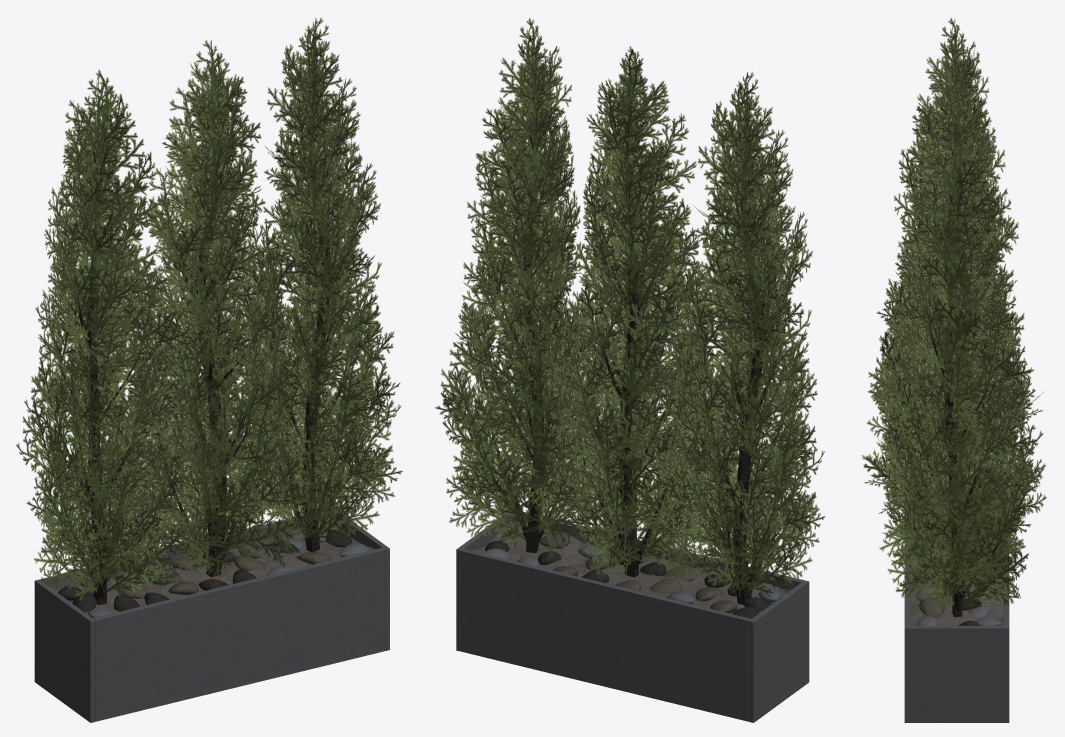
Rendered from drzewka_poprawka.glb.
The picture shows the model from 3 angles, left to right: view 1: azimuth 30°, elevation 25°; view 2: azimuth 150°, elevation 25°; view 3: azimuth 270°, elevation 25°; orthographic projection. The views are drawn at different scales.
Parts seen in each view (by area): view 1: 2_media\gen\BZO\q\r\c\wda4ahsok1wt0lj-vba__r2__.bzo_3, 1_media\gen\BZO\q\r\c\wda4ahsok1wt0lj-vba__r2__.bzo_2, 0_media\gen\BZO\q\r\c\wda4ahsok1wt0lj-vba__r2__.bzo_1, 4_media\gen\BZO\q\r\c\wda4ahsok1wt0lj-vba__r2__.bzo_5, 3_media\gen\BZO\q\r\c\wda4ahsok1wt0lj-vba__r2__.bzo_4; view 2: 2_media\gen\BZO\q\r\c\wda4ahsok1wt0lj-vba__r2__.bzo_3, 1_media\gen\BZO\q\r\c\wda4ahsok1wt0lj-vba__r2__.bzo_2, 0_media\gen\BZO\q\r\c\wda4ahsok1wt0lj-vba__r2__.bzo_1, 4_media\gen\BZO\q\r\c\wda4ahsok1wt0lj-vba__r2__.bzo_5, 3_media\gen\BZO\q\r\c\wda4ahsok1wt0lj-vba__r2__.bzo_4; view 3: 2_media\gen\BZO\q\r\c\wda4ahsok1wt0lj-vba__r2__.bzo_3, 1_media\gen\BZO\q\r\c\wda4ahsok1wt0lj-vba__r2__.bzo_2, 0_media\gen\BZO\q\r\c\wda4ahsok1wt0lj-vba__r2__.bzo_1, 4_media\gen\BZO\q\r\c\wda4ahsok1wt0lj-vba__r2__.bzo_5, 3_media\gen\BZO\q\r\c\wda4ahsok1wt0lj-vba__r2__.bzo_4.
Part boxes in pixels (<box>): 2_media\gen\BZO\q\r\c\wda4ahsok1wt0lj-vba__r2__.bzo_3: <box>16,17,402,600</box>; 1_media\gen\BZO\q\r\c\wda4ahsok1wt0lj-vba__r2__.bzo_2: <box>34,509,389,722</box>; 0_media\gen\BZO\q\r\c\wda4ahsok1wt0lj-vba__r2__.bzo_1: <box>45,47,372,605</box>; 4_media\gen\BZO\q\r\c\wda4ahsok1wt0lj-vba__r2__.bzo_5: <box>58,522,369,618</box>; 3_media\gen\BZO\q\r\c\wda4ahsok1wt0lj-vba__r2__.bzo_4: <box>55,523,373,615</box>; 2_media\gen\BZO\q\r\c\wda4ahsok1wt0lj-vba__r2__.bzo_3: <box>435,18,825,600</box>; 1_media\gen\BZO\q\r\c\wda4ahsok1wt0lj-vba__r2__.bzo_2: <box>456,511,809,722</box>; 0_media\gen\BZO\q\r\c\wda4ahsok1wt0lj-vba__r2__.bzo_1: <box>470,51,796,604</box>; 4_media\gen\BZO\q\r\c\wda4ahsok1wt0lj-vba__r2__.bzo_5: <box>483,522,781,618</box>; 3_media\gen\BZO\q\r\c\wda4ahsok1wt0lj-vba__r2__.bzo_4: <box>473,524,790,613</box>; 2_media\gen\BZO\q\r\c\wda4ahsok1wt0lj-vba__r2__.bzo_3: <box>861,17,1046,612</box>; 1_media\gen\BZO\q\r\c\wda4ahsok1wt0lj-vba__r2__.bzo_2: <box>904,492,1009,722</box>; 0_media\gen\BZO\q\r\c\wda4ahsok1wt0lj-vba__r2__.bzo_1: <box>889,48,1020,617</box>; 4_media\gen\BZO\q\r\c\wda4ahsok1wt0lj-vba__r2__.bzo_5: <box>915,501,1002,625</box>; 3_media\gen\BZO\q\r\c\wda4ahsok1wt0lj-vba__r2__.bzo_4: <box>910,503,1003,625</box>.
Bounding box in the file's own units: 1.18 × 1.89 × 0.5691.
5 materials, 5 textured.
